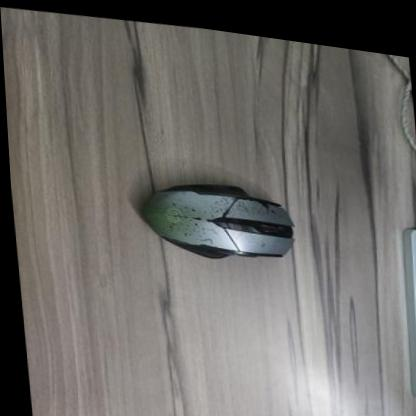mouserotation: (133, 167, 298, 267)
